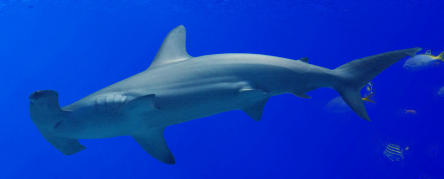fishLarge: (323, 90, 375, 116), (403, 49, 443, 71)
fishRound: (383, 141, 404, 162)
shark: (27, 20, 423, 165)
